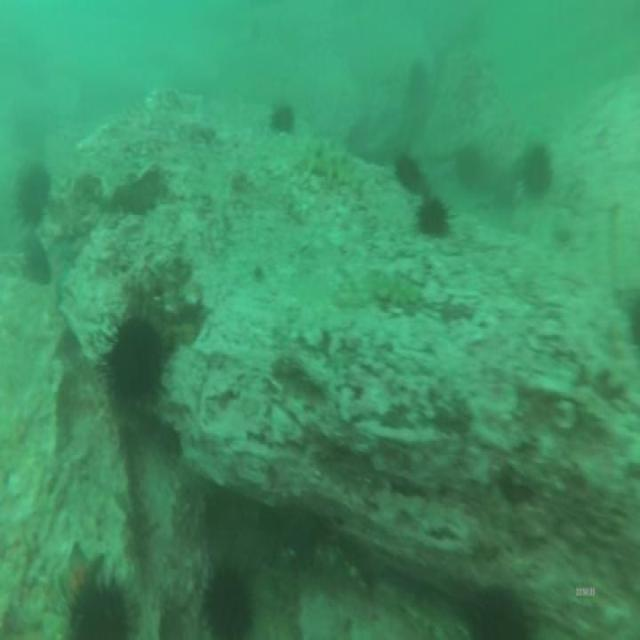echinus: (96, 300, 172, 424), (61, 565, 143, 640), (199, 554, 255, 640), (463, 580, 535, 640), (10, 159, 52, 234), (516, 139, 556, 207), (414, 191, 452, 242), (391, 150, 428, 201), (20, 240, 54, 284), (268, 100, 297, 138), (406, 56, 431, 94)
holothurian: (360, 261, 426, 321), (297, 133, 363, 185)
starfish: (55, 538, 108, 622)
